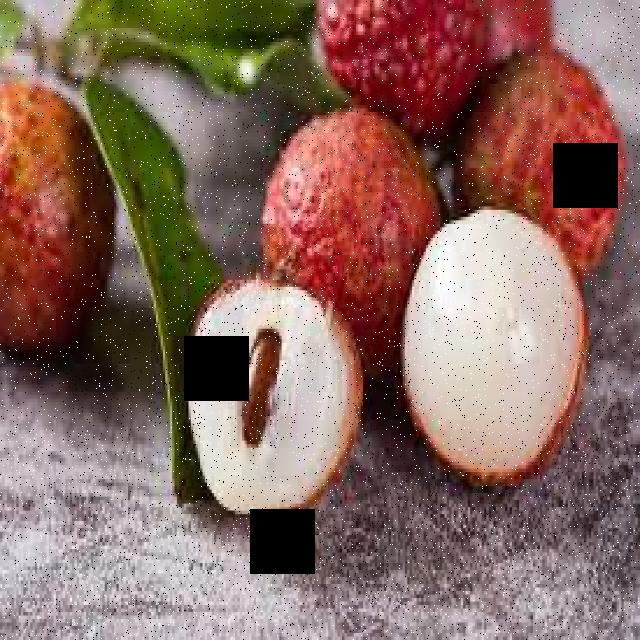lychee: (192, 206, 574, 519)
